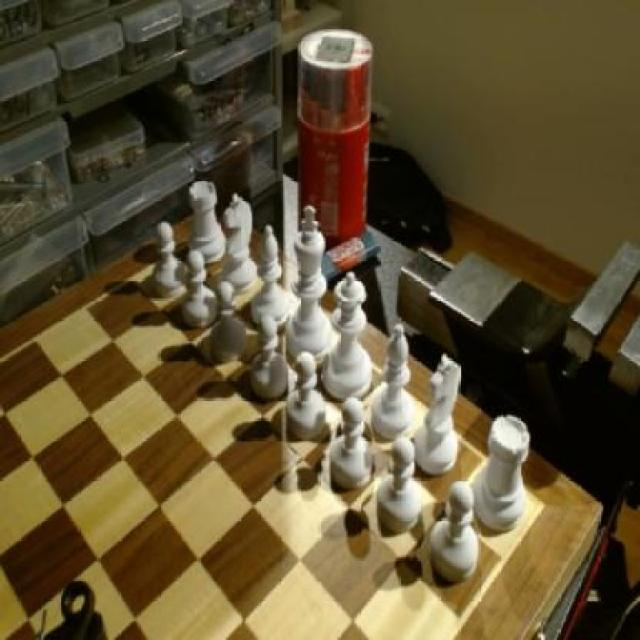black-rook: (374, 322, 418, 438), (254, 226, 294, 329)
white-bishop: (285, 203, 330, 362)
white-king: (415, 356, 468, 484), (220, 189, 258, 296)
white-knight: (428, 478, 482, 590), (378, 431, 427, 539), (330, 398, 376, 497), (288, 351, 333, 450), (249, 311, 292, 402), (154, 222, 191, 303), (185, 245, 218, 332), (214, 280, 248, 361)
white-pawn: (326, 268, 372, 402)
white-queen: (472, 411, 532, 547), (189, 183, 228, 266)
